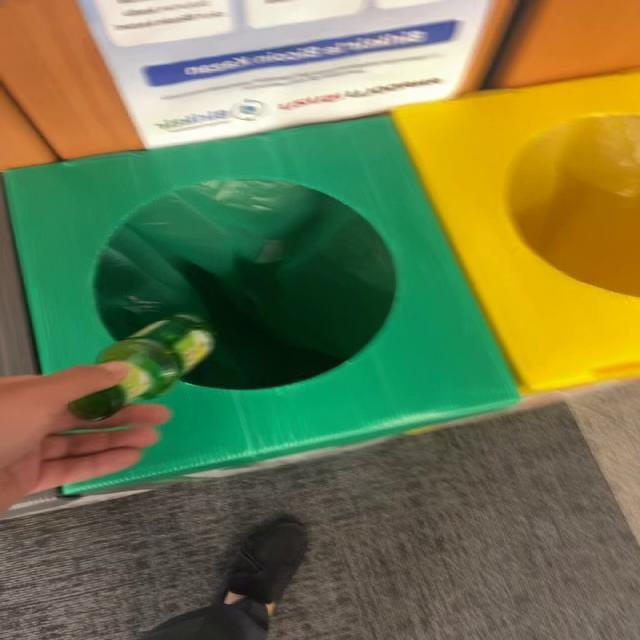Glass: (67, 315, 215, 420)
